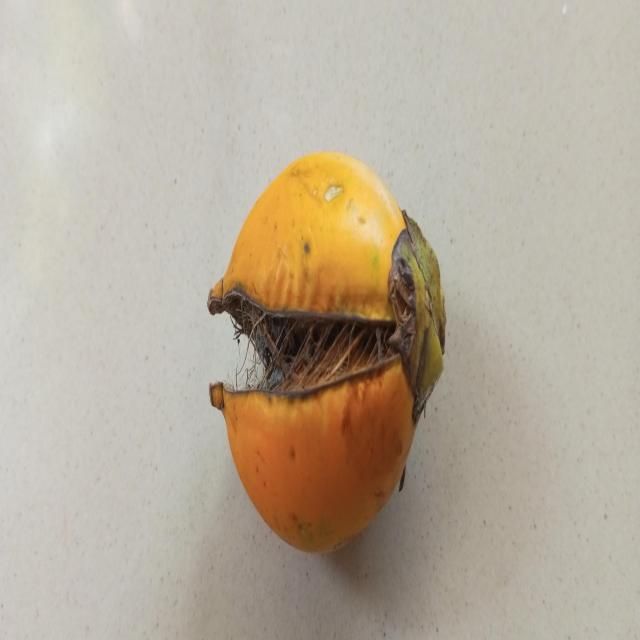damaged: (207, 152, 448, 556)
